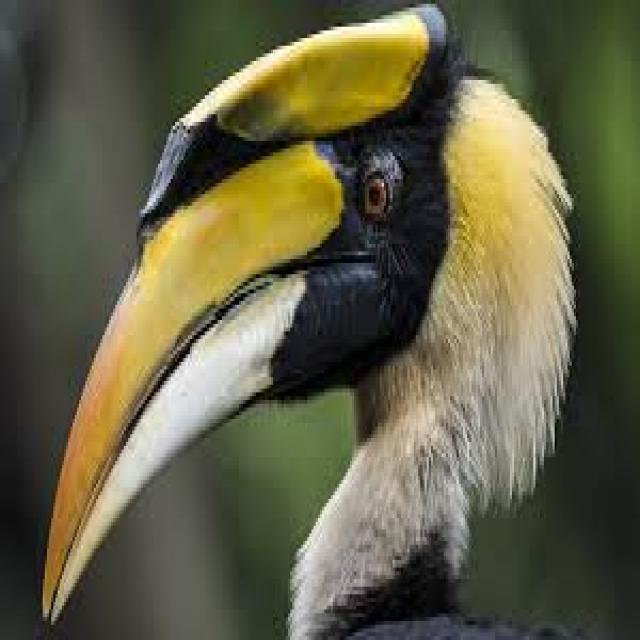Hornbill: (38, 13, 577, 619)
